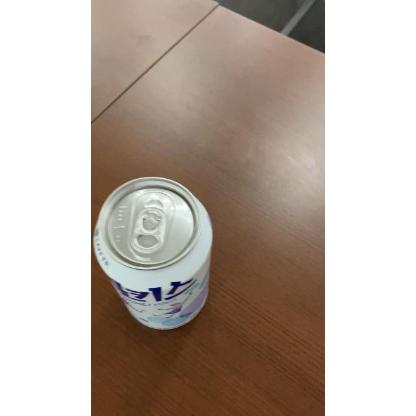Can: (93, 177, 213, 332)
